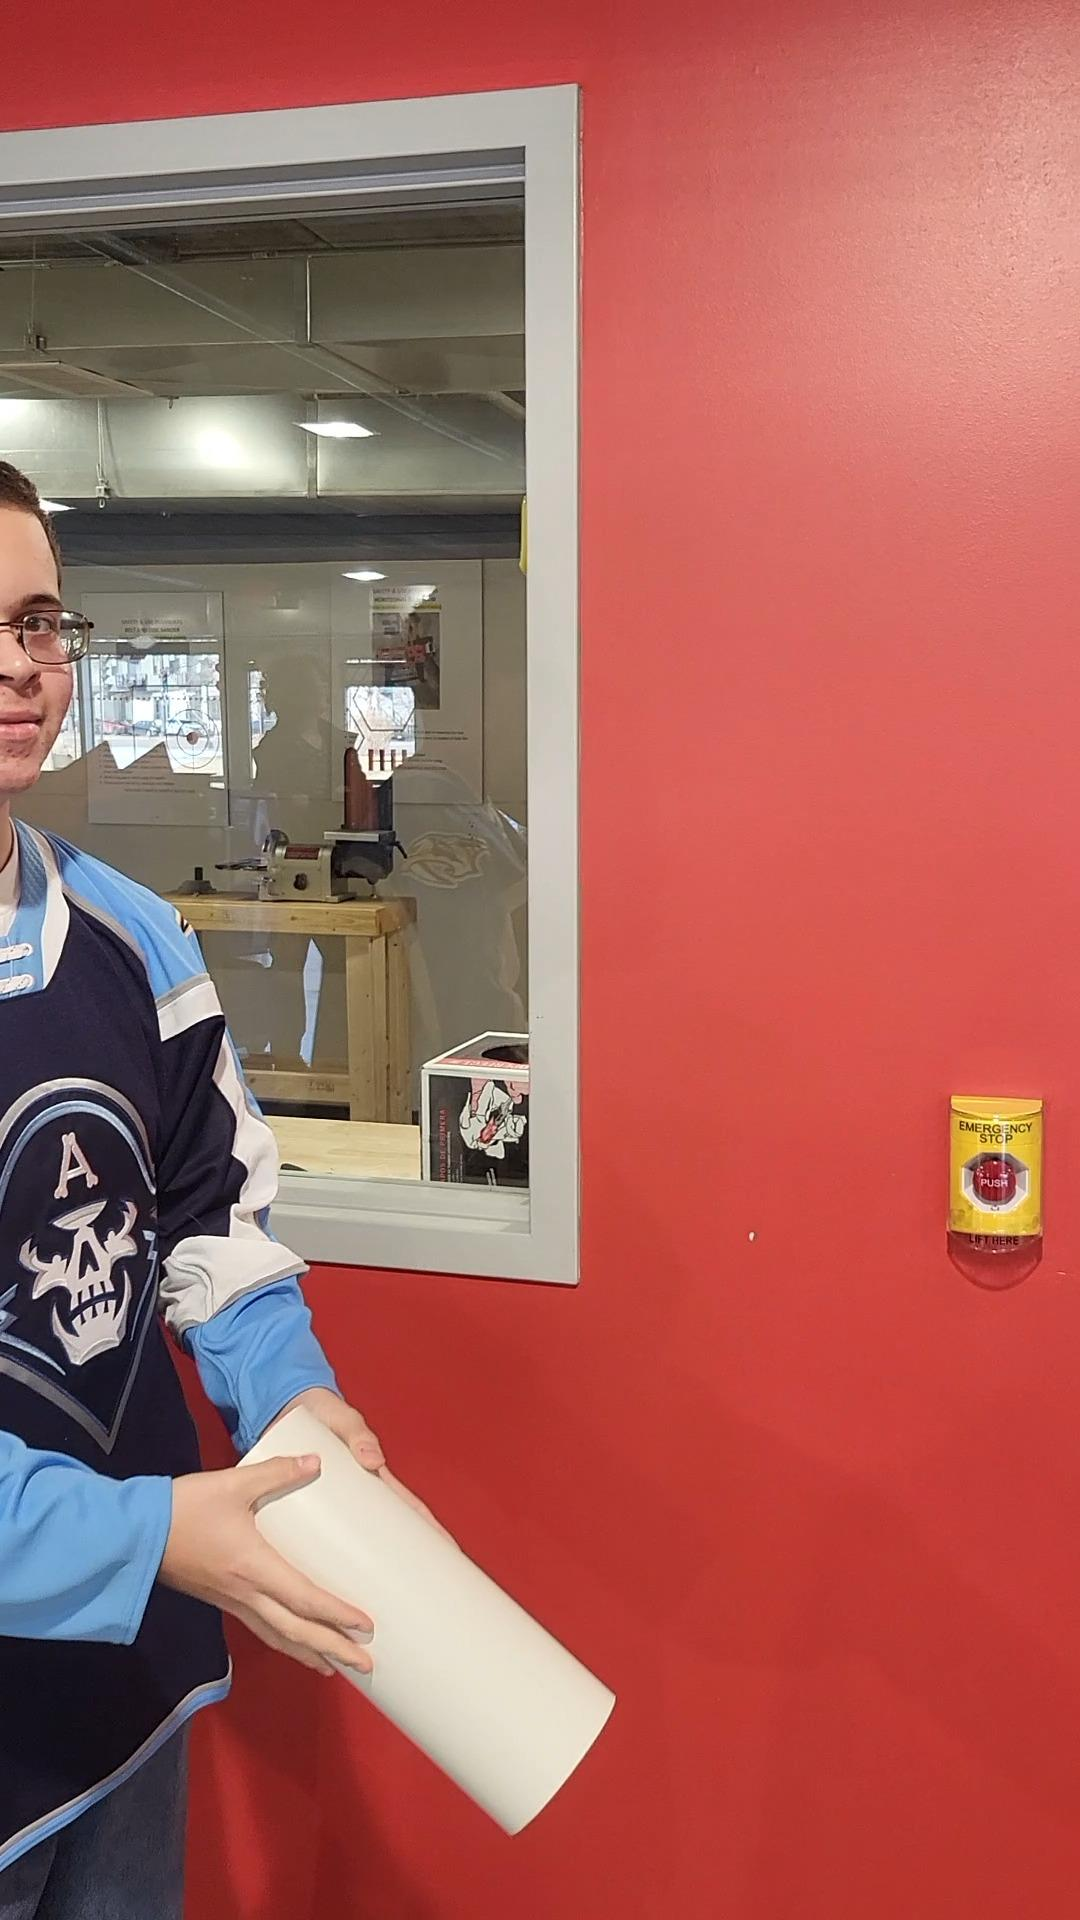coral: (200, 1394, 626, 1833)
